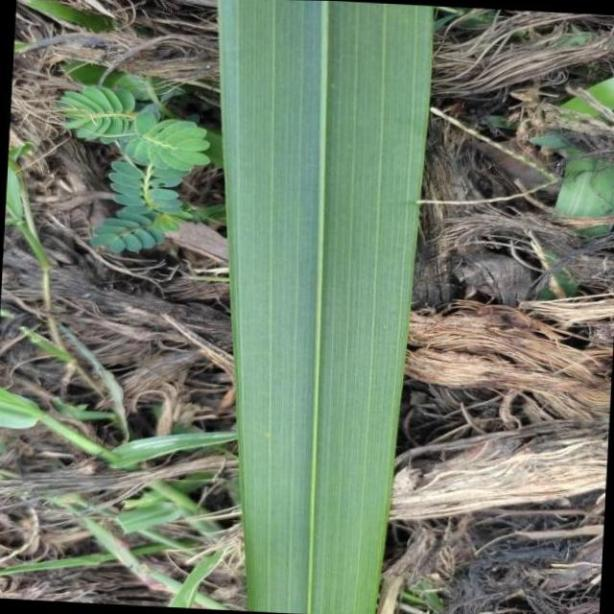Healthy: (219, 3, 436, 614)
